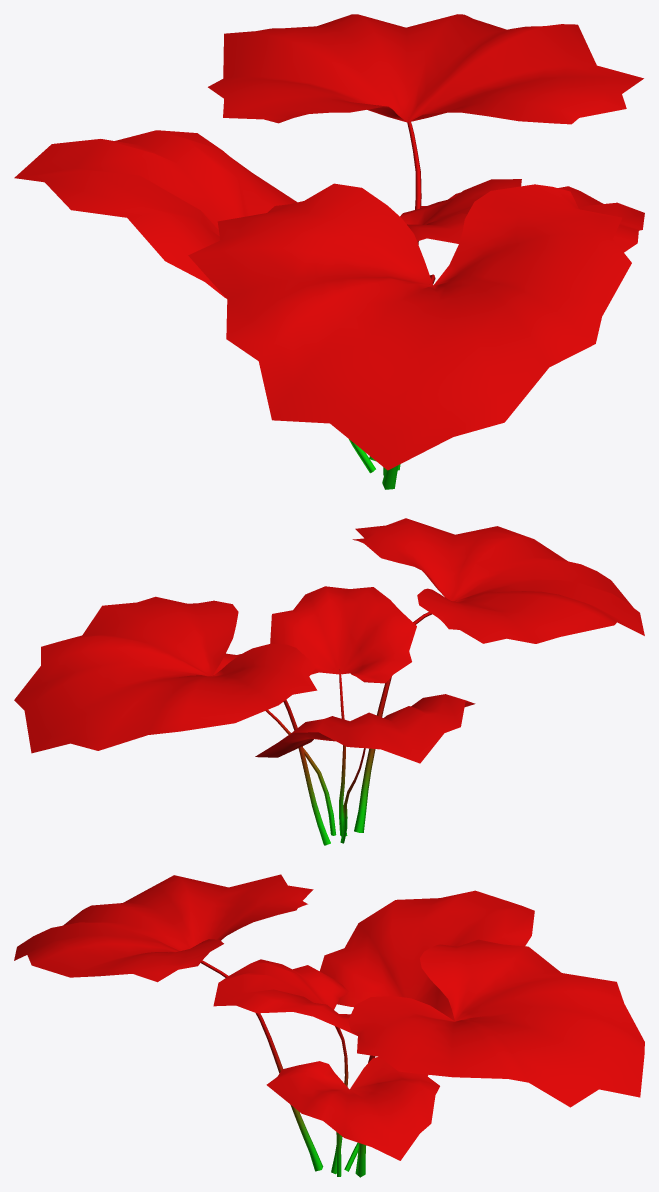
Rendered from Coltsfoot_LOD1_Var8_xbtkdfvqx.fbx.
The picture shows the model from 3 angles, top to bottom: view 1: azimuth 30°, elevation 25°; view 2: azimuth 150°, elevation 25°; view 3: azimuth 270°, elevation 25°; orthographic projection. The views are drawn at different scales.
Parts seen in each view (by area): view 1: _yx4s_Var8_LOD1; view 2: _yx4s_Var8_LOD1; view 3: _yx4s_Var8_LOD1.
Part boxes in pixels (<box>): _yx4s_Var8_LOD1: <box>14,14,644,489</box>; _yx4s_Var8_LOD1: <box>14,518,644,845</box>; _yx4s_Var8_LOD1: <box>14,874,644,1177</box>.
Size of the model in its own units: 41.76 by 23.32 by 54.91.
